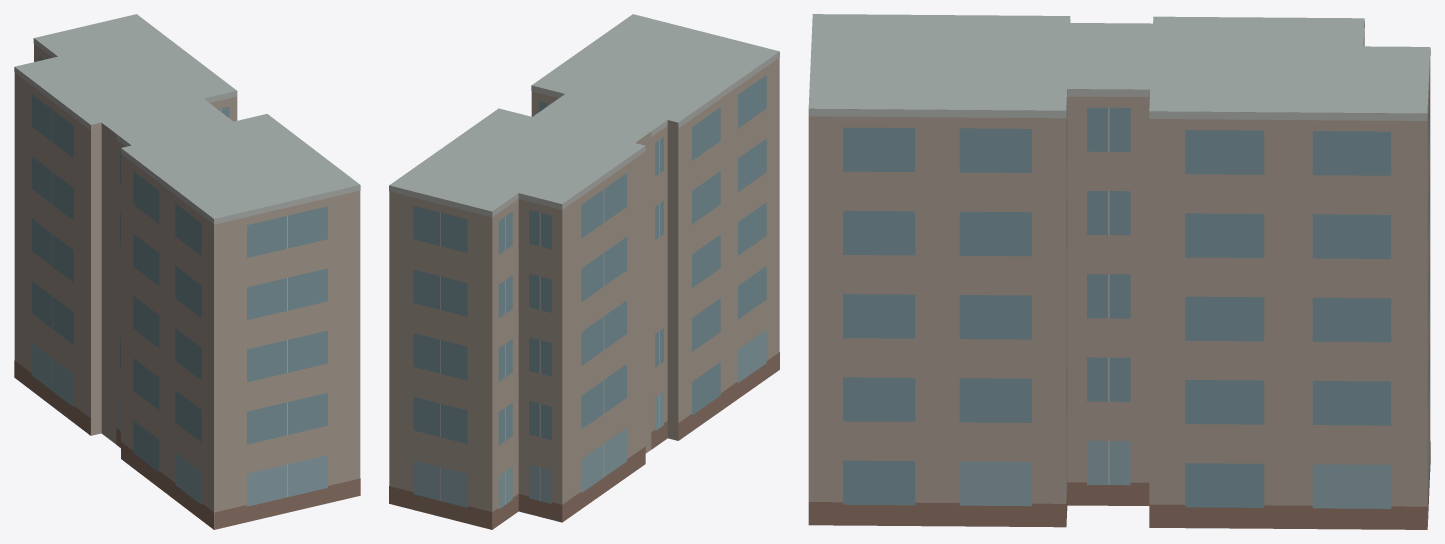
Rendered from survey-upis-32564788.glb.
3 views of the same model, side by side, from view 1: azimuth 30°, elevation 25°; view 2: azimuth 150°, elevation 25°; view 3: azimuth 270°, elevation 25° (orthographic). The views are drawn at different scales.
Parts seen in each view (by area): view 1: survey-upis-32564788.tmp; view 2: survey-upis-32564788.tmp; view 3: survey-upis-32564788.tmp.
Part boxes in pixels (x1,y1,x2,y2): survey-upis-32564788.tmp: (14,14,360,529); survey-upis-32564788.tmp: (389,14,779,529); survey-upis-32564788.tmp: (808,14,1430,529).
Bounding box in the file's own units: 6.87 × 13.4 × 18.14.
